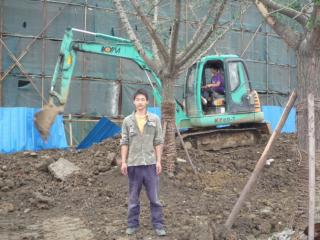excavator: (36, 24, 279, 154)
